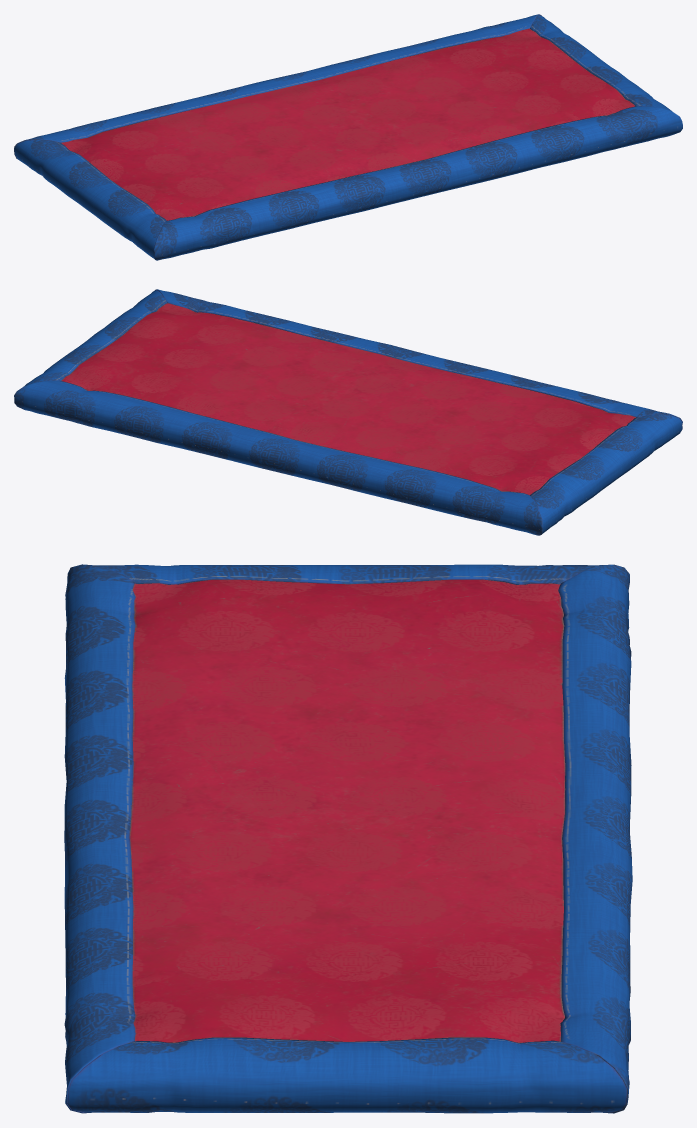
The model's file is SM_QuiltedMattress.fbx.
3 renders of one model, top to bottom at view 1: azimuth 30°, elevation 25°; view 2: azimuth 150°, elevation 25°; view 3: azimuth 270°, elevation 25°, orthographic. The views are drawn at different scales.
Visible parts, largest first — view 1: SM_QuiltedMattress; view 2: SM_QuiltedMattress; view 3: SM_QuiltedMattress.
Part boxes in pixels (x1=…): SM_QuiltedMattress: x1=14, y1=14, x2=682, y2=260; SM_QuiltedMattress: x1=14, y1=289, x2=682, y2=535; SM_QuiltedMattress: x1=64, y1=564, x2=632, y2=1113.
Bounding box in the file's own units: 207 × 13.07 × 96.12.
Materials: 1 (1 with a texture image).
